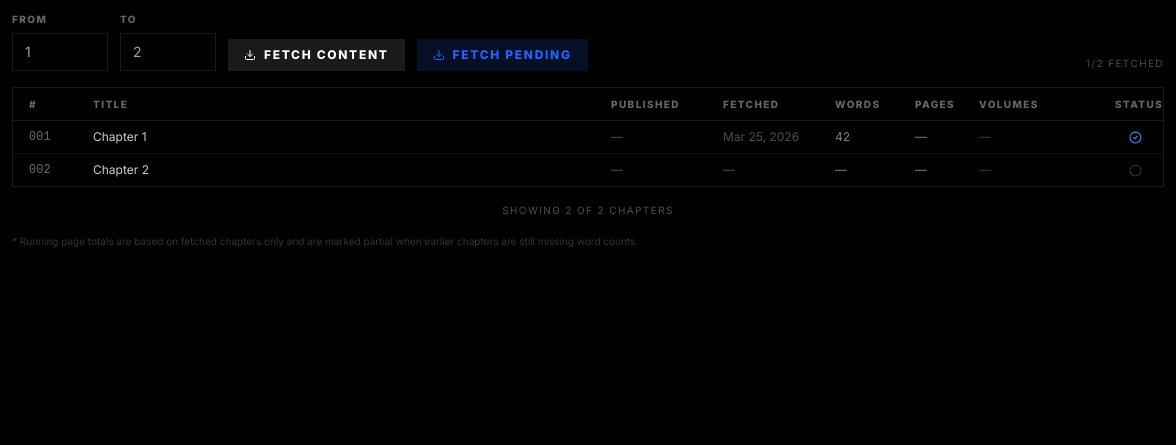
it: ChapterList › starts a pending fetch job from the toolbar
Expected: the text "1/2 fetched" is shown, top-left (1086, 56), bottom-right (1164, 71)
Click the button "Fetch Pending".
click(502, 55)  # box top-left (417, 39), bottom-right (588, 71)
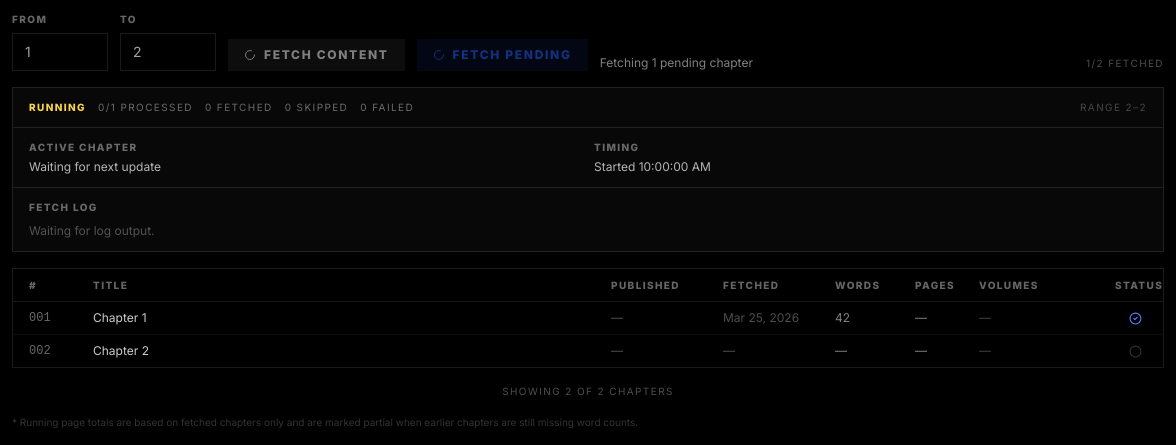
Result: the text "Fetching 1 pending chapter" is shown at top-left (600, 55), bottom-right (753, 71)
Result: the text "running" is shown at top-left (29, 100), bottom-right (86, 115)
Result: the text "range 2–2" is shown at top-left (1080, 100), bottom-right (1147, 115)
